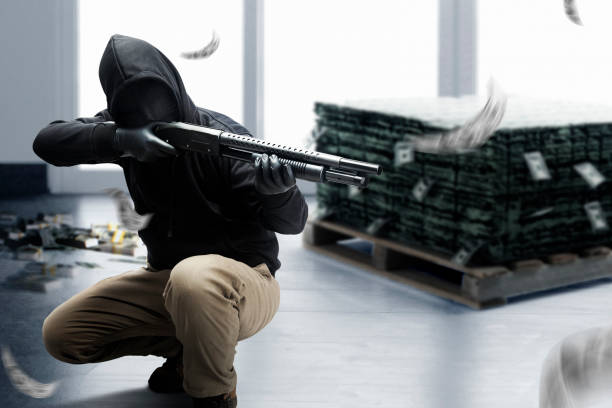gun: (98, 120, 382, 187)
